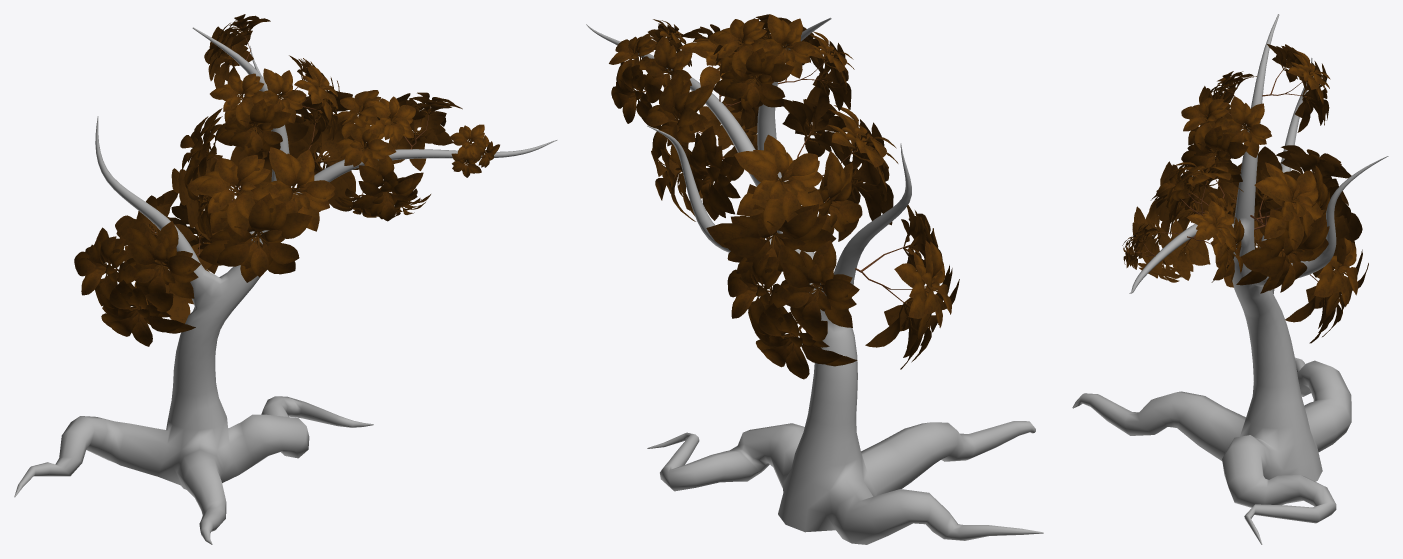
File: Tree.fbx
The picture shows the model from 3 angles, left to right: view 1: azimuth 30°, elevation 25°; view 2: azimuth 150°, elevation 25°; view 3: azimuth 270°, elevation 25°; orthographic projection. The views are drawn at different scales.
Visible parts, largest first — view 1: Trunk_and_branches2; view 2: Trunk_and_branches2; view 3: Trunk_and_branches2.
Part boxes in pixels (<box>): Trunk_and_branches2: <box>14,14,557,544</box>; Trunk_and_branches2: <box>586,14,1043,544</box>; Trunk_and_branches2: <box>1072,14,1388,544</box>.
Bounding box in the file's own units: 23.46 × 21.07 × 13.14.
